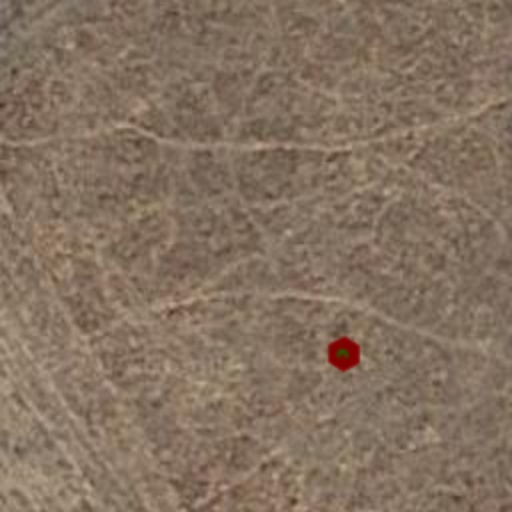hexagon: (324, 334, 364, 374)
